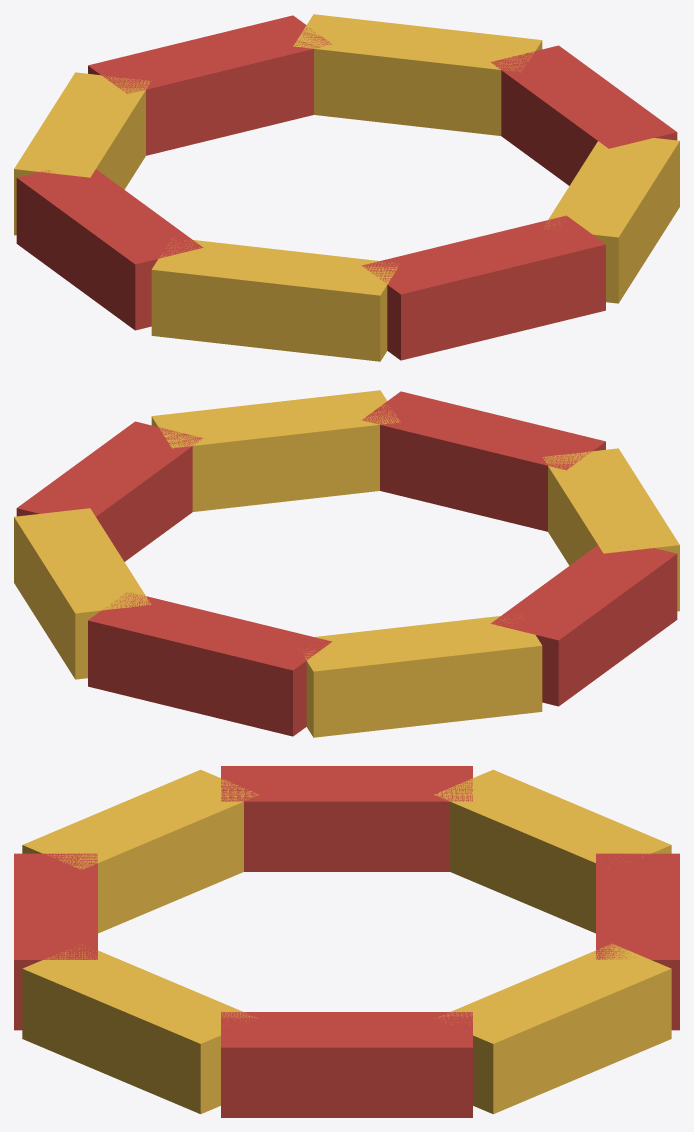
The model's file is carnival_ring_source.glb.
The picture shows the model from 3 angles, top to bottom: view 1: azimuth 30°, elevation 25°; view 2: azimuth 150°, elevation 25°; view 3: azimuth 270°, elevation 25°; orthographic projection. The views are drawn at different scales.
Parts seen in each view (by area): view 1: CarnivalRingSegment_05, CarnivalRingSegment_06, CarnivalRingSegment_01, CarnivalRingSegment_02, CarnivalRingSegment_04, CarnivalRingSegment_00, CarnivalRingSegment_07, CarnivalRingSegment_03; view 2: CarnivalRingSegment_03, CarnivalRingSegment_02, CarnivalRingSegment_07, CarnivalRingSegment_06, CarnivalRingSegment_04, CarnivalRingSegment_00, CarnivalRingSegment_01, CarnivalRingSegment_05; view 3: CarnivalRingSegment_00, CarnivalRingSegment_04, CarnivalRingSegment_01, CarnivalRingSegment_07, CarnivalRingSegment_05, CarnivalRingSegment_03, CarnivalRingSegment_06, CarnivalRingSegment_02.
Part boxes in pixels (box(x1,y1,x2,y2)): CarnivalRingSegment_05: box(151, 239, 398, 361); CarnivalRingSegment_06: box(362, 215, 605, 360); CarnivalRingSegment_01: box(293, 14, 542, 135); CarnivalRingSegment_02: box(88, 15, 331, 155); CarnivalRingSegment_04: box(16, 169, 203, 330); CarnivalRingSegment_00: box(490, 45, 677, 185); CarnivalRingSegment_07: box(544, 138, 679, 303); CarnivalRingSegment_03: box(14, 72, 151, 235); CarnivalRingSegment_03: box(304, 616, 542, 737); CarnivalRingSegment_02: box(88, 592, 331, 736); CarnivalRingSegment_07: box(151, 390, 400, 511); CarnivalRingSegment_06: box(362, 391, 605, 531); CarnivalRingSegment_04: box(490, 545, 677, 706); CarnivalRingSegment_00: box(16, 421, 202, 561); CarnivalRingSegment_01: box(14, 508, 150, 679); CarnivalRingSegment_05: box(542, 448, 679, 611); CarnivalRingSegment_00: box(221, 1012, 472, 1117); CarnivalRingSegment_04: box(221, 766, 472, 871); CarnivalRingSegment_01: box(438, 943, 671, 1114); CarnivalRingSegment_07: box(22, 944, 256, 1114); CarnivalRingSegment_05: box(22, 769, 258, 933); CarnivalRingSegment_03: box(434, 769, 671, 933); CarnivalRingSegment_06: box(14, 853, 97, 1030); CarnivalRingSegment_02: box(596, 853, 679, 1030).
Size of the model in its own units: 1.03 by 0.12 by 1.03.
